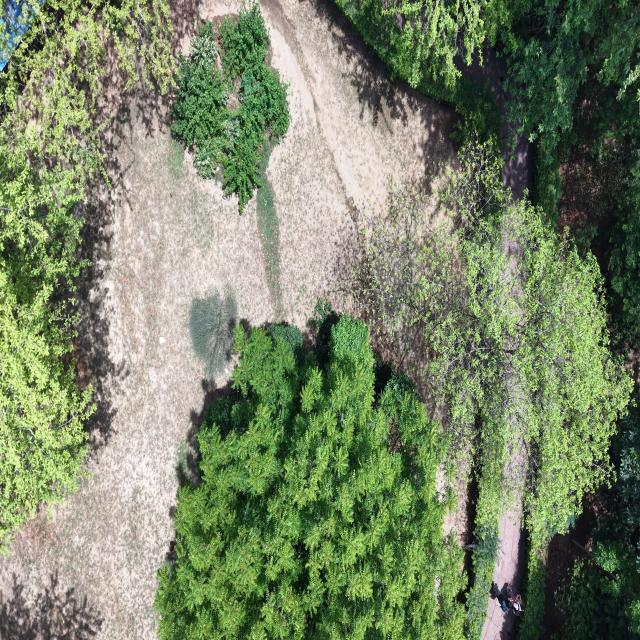DRY_AREA: (0, 0, 455, 639), (0, 0, 453, 637), (261, 0, 455, 322), (261, 0, 455, 216), (455, 42, 533, 199), (455, 43, 532, 199), (455, 44, 532, 199), (456, 43, 532, 199), (456, 44, 532, 199), (456, 45, 532, 199), (543, 494, 601, 637), (493, 416, 527, 596), (493, 417, 526, 597), (493, 416, 526, 596), (493, 442, 526, 596), (437, 451, 475, 561), (493, 495, 525, 596), (493, 503, 524, 595), (0, 0, 35, 72)
PATHWAYS: (456, 46, 532, 199)
VEGETATION_TREE: (156, 0, 639, 639), (337, 0, 639, 637), (355, 144, 632, 637), (356, 144, 632, 542), (337, 0, 639, 343), (156, 313, 465, 639), (0, 0, 171, 552), (354, 144, 519, 638), (353, 142, 518, 439), (499, 2, 639, 348), (499, 0, 639, 343), (521, 219, 632, 638), (514, 208, 632, 546), (0, 0, 172, 229), (0, 206, 93, 551), (499, 0, 639, 210), (172, 3, 289, 213), (336, 0, 508, 141), (500, 0, 639, 149), (554, 408, 639, 639), (337, 0, 508, 88), (552, 528, 639, 639), (465, 514, 501, 639), (612, 406, 639, 569), (189, 290, 237, 379), (517, 543, 546, 639)
